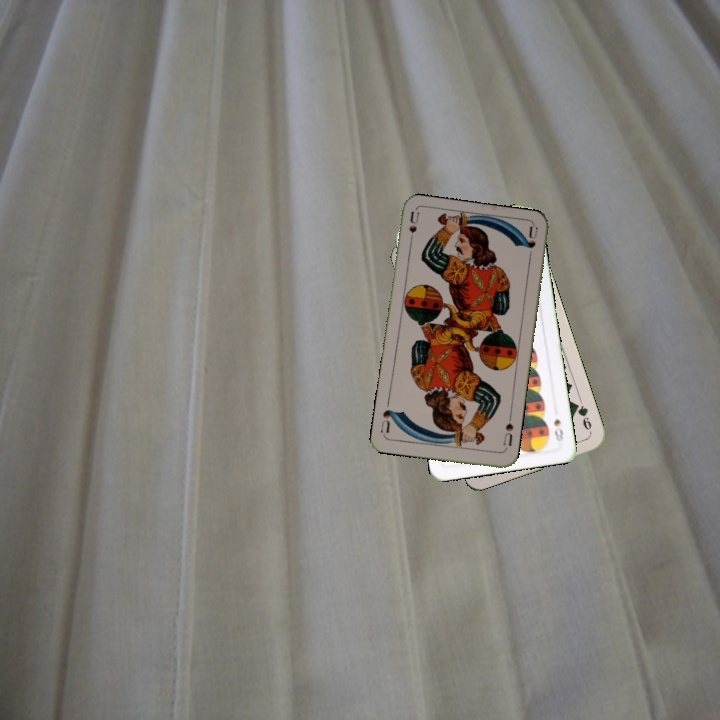G9: (570, 399, 594, 433)
S8: (550, 414, 566, 443)
SU: (405, 209, 421, 250), (499, 419, 516, 453)
